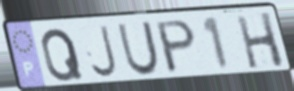1: (201, 15, 230, 74)
H: (234, 10, 287, 71)
J: (89, 23, 120, 80)
P: (155, 17, 198, 76)
Q: (39, 26, 85, 84)
U: (115, 19, 162, 78)
